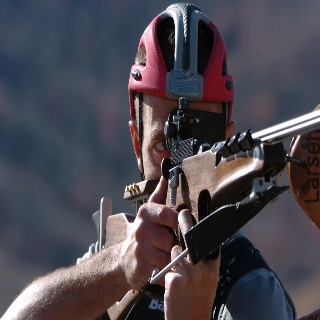rifle: (99, 95, 320, 320)
